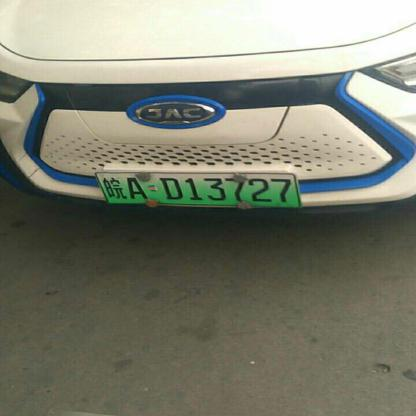lp: (96, 173, 300, 206)
